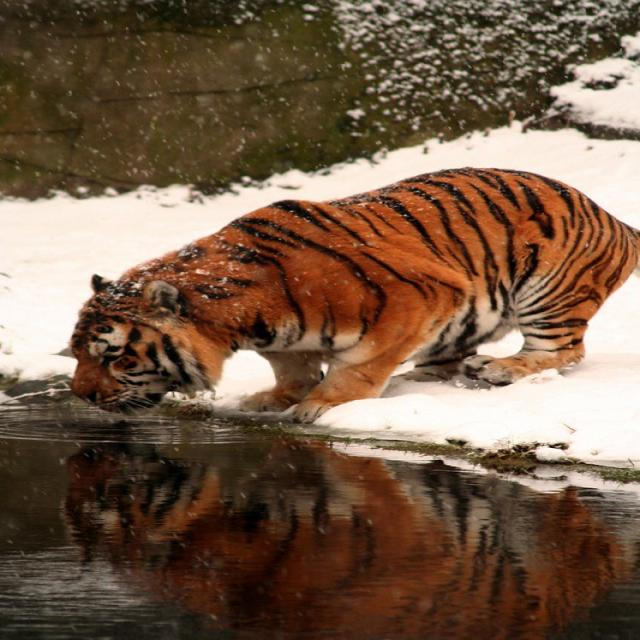Tiger: (58, 167, 638, 426)
